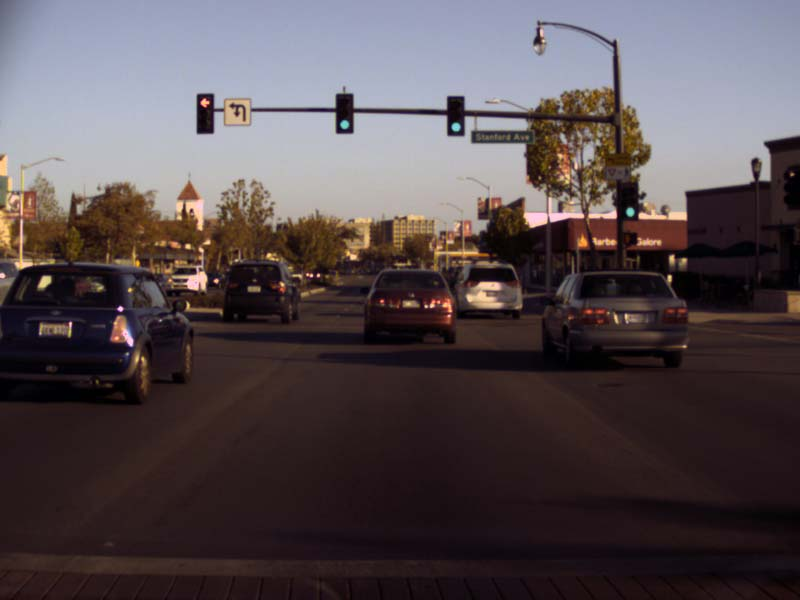Green: (618, 182, 638, 220), (335, 93, 353, 133), (446, 96, 463, 135)
Red: (196, 93, 213, 133)
